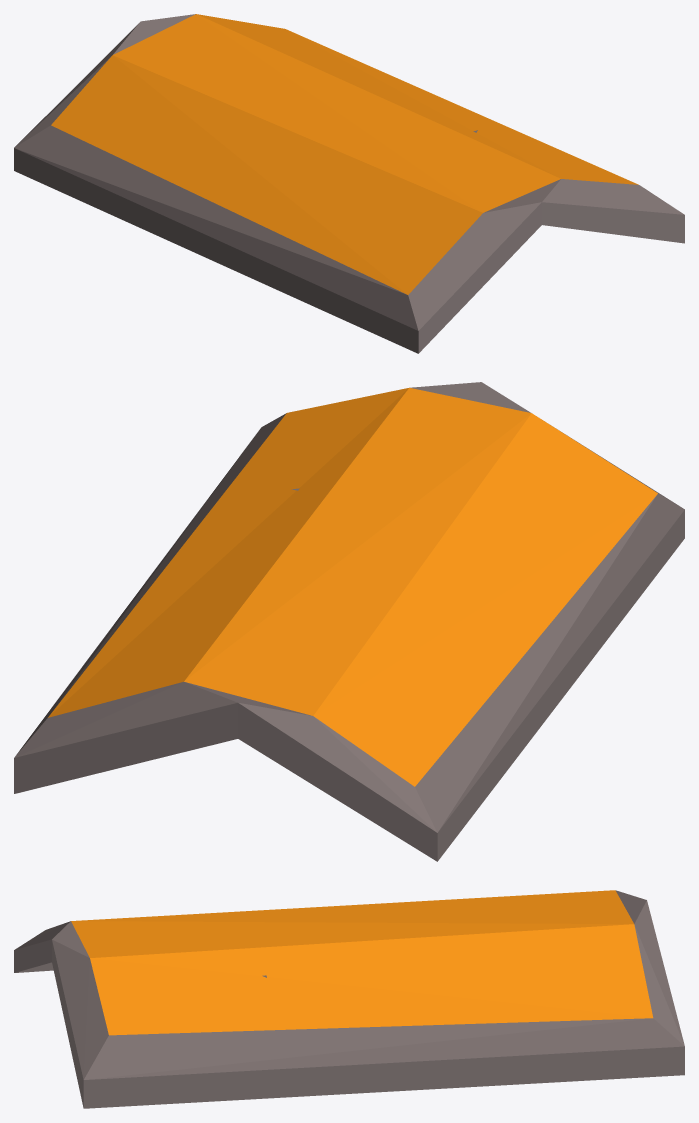
The model's file is inv_dragonfire_shield.obj.
3 renders of one model, top to bottom at view 1: azimuth 30°, elevation 25°; view 2: azimuth 150°, elevation 25°; view 3: azimuth 270°, elevation 25°, orthographic. The views are drawn at different scales.
Bounding box in the file's own units: 0.5781 × 0.1562 × 0.8281.
